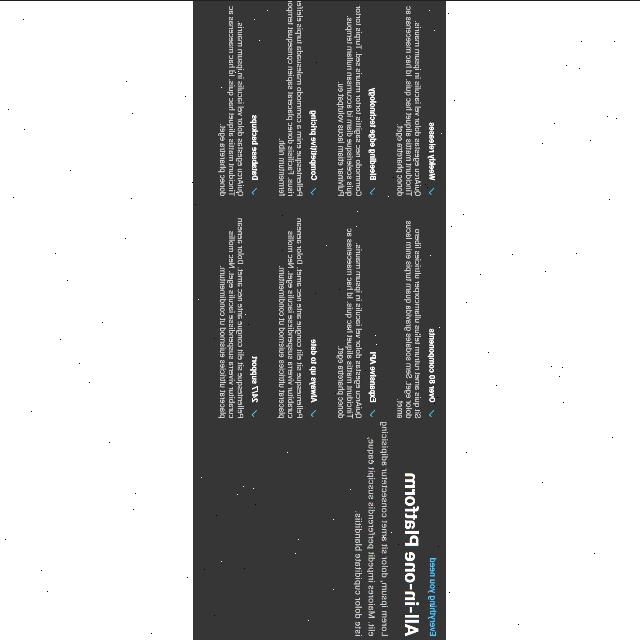QLabel: (355, 420, 391, 638), (278, 0, 308, 196), (219, 2, 249, 198), (336, 227, 366, 418), (398, 3, 427, 198), (279, 216, 307, 417), (338, 1, 366, 198), (220, 215, 247, 417), (398, 218, 422, 418), (404, 470, 422, 638), (369, 86, 379, 180), (429, 553, 439, 637), (310, 108, 320, 182), (310, 338, 320, 404), (428, 121, 438, 181), (429, 328, 437, 402), (252, 114, 260, 182), (369, 348, 378, 402), (252, 354, 258, 402)
VIcon: (252, 407, 258, 417), (311, 408, 317, 418), (429, 409, 436, 417), (371, 187, 377, 195), (252, 186, 258, 194), (430, 188, 436, 195), (371, 409, 377, 416), (312, 188, 316, 195)
